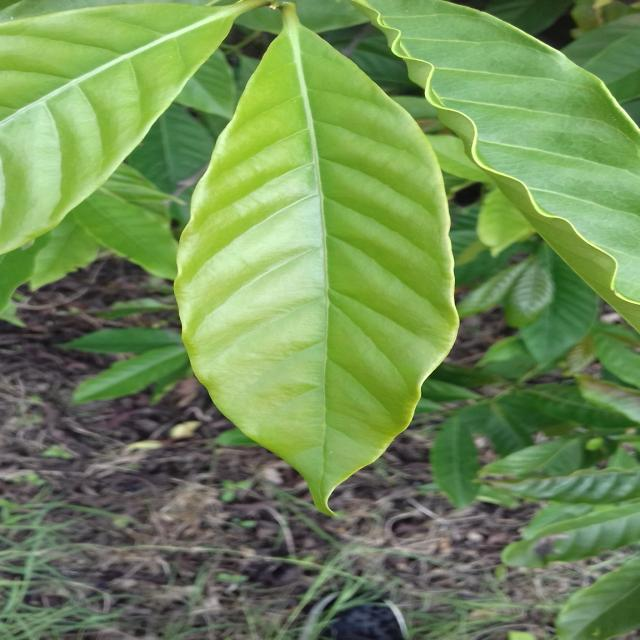Sanas: (172, 5, 458, 514)
